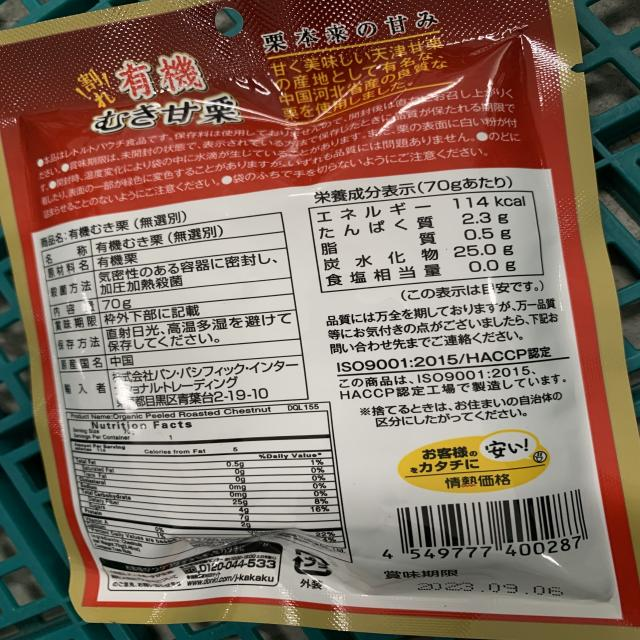object_name: (3, 14, 640, 640)
